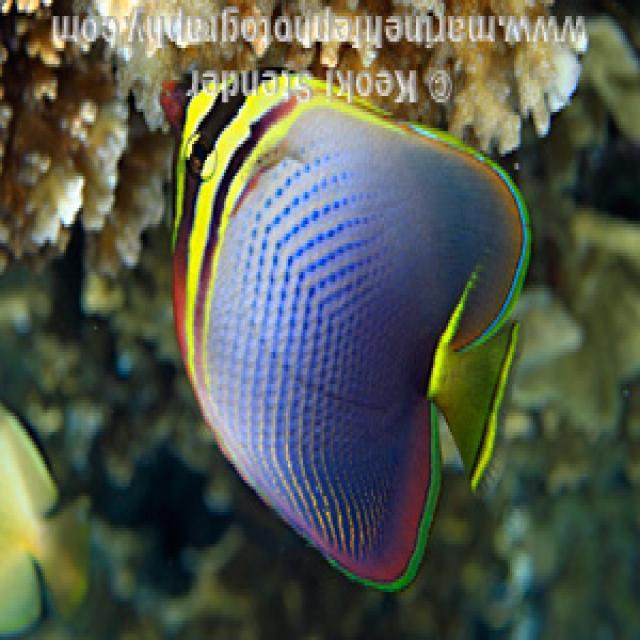ButterflyFish: (116, 52, 554, 600)
